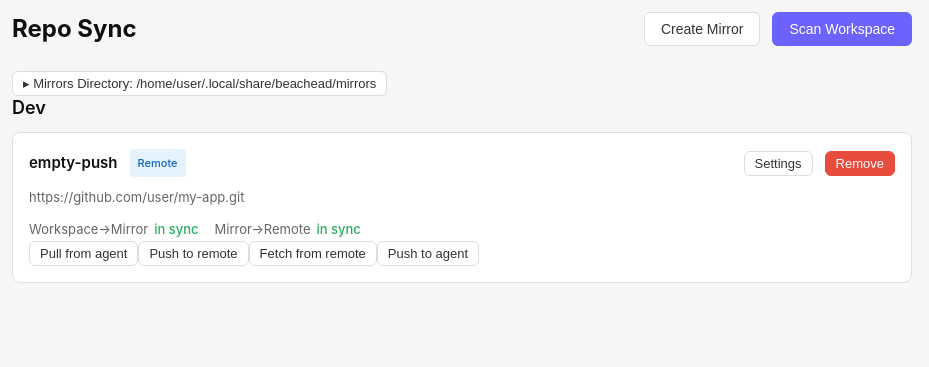
Scenario: RepoSyncPage — Commit Review Modal › shows error when no commits to push
// Click "Push to remote"
Click the button with aria-label "Push to remote for empty-push": [194, 254] box [138,241,249,266]
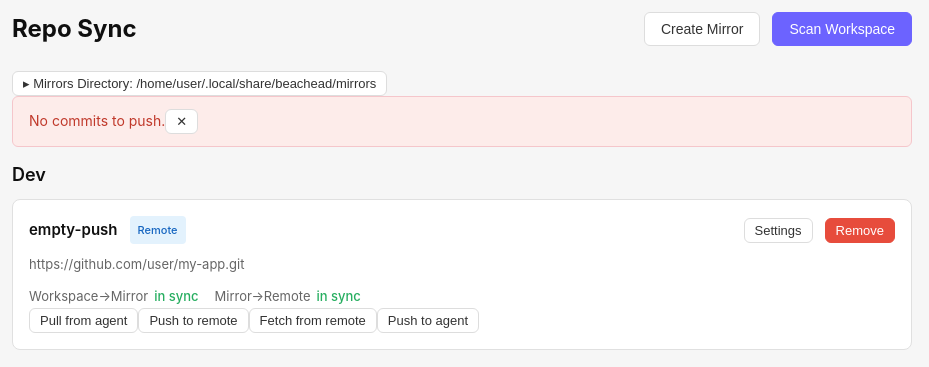
Check: the text "No commits to push." is shown, box [29,112,165,129]
